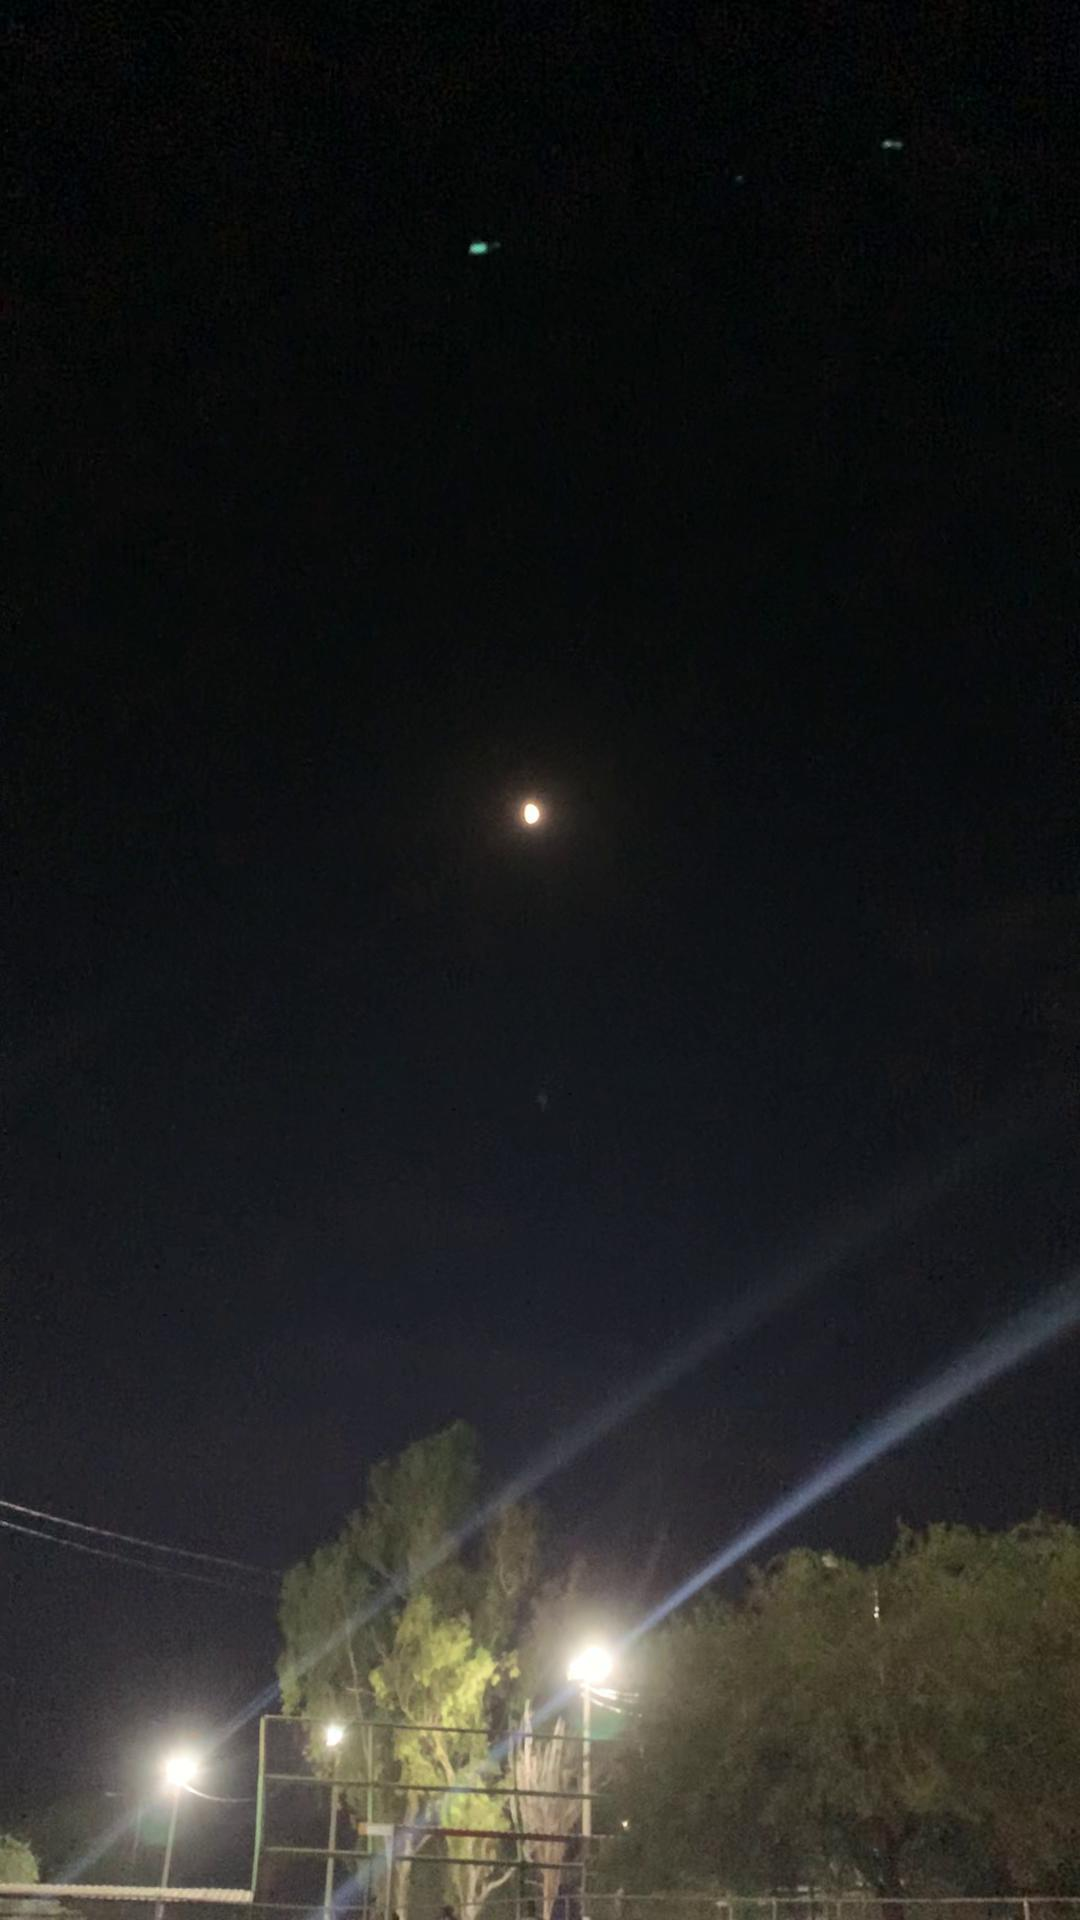moon: (500, 782, 583, 855)
